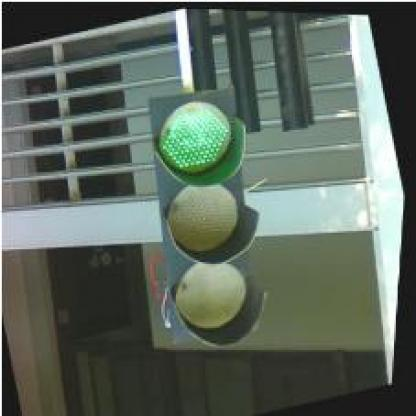green: (112, 74, 302, 358)
